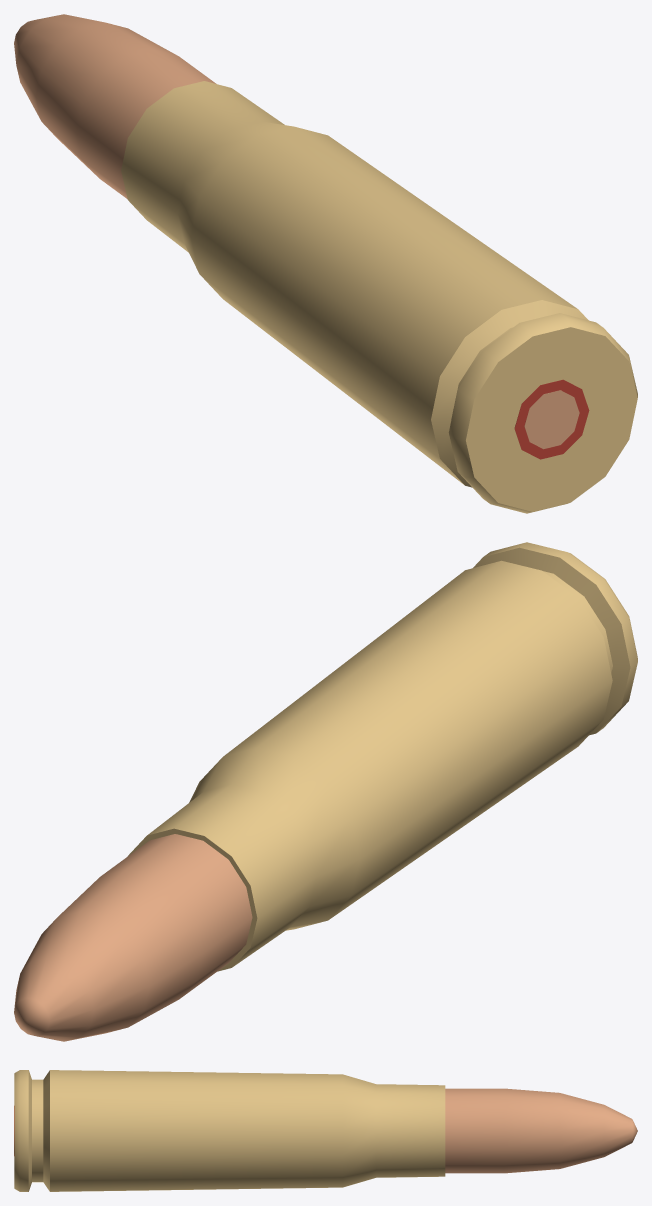
The model's file is round_762x39.glb.
3 renders of one model, top to bottom at view 1: azimuth 30°, elevation 25°; view 2: azimuth 150°, elevation 25°; view 3: azimuth 270°, elevation 25°, orthographic. The views are drawn at different scales.
Parts seen in each view (by area): view 1: body; view 2: body; view 3: body.
Boxes of the visible parts, box(x1,y1,x2,y2) form: body: box(14, 14, 637, 513); body: box(14, 542, 637, 1041); body: box(14, 1070, 637, 1191).
Size of the model in its own units: 0.0112 by 0.0109 by 0.056.
